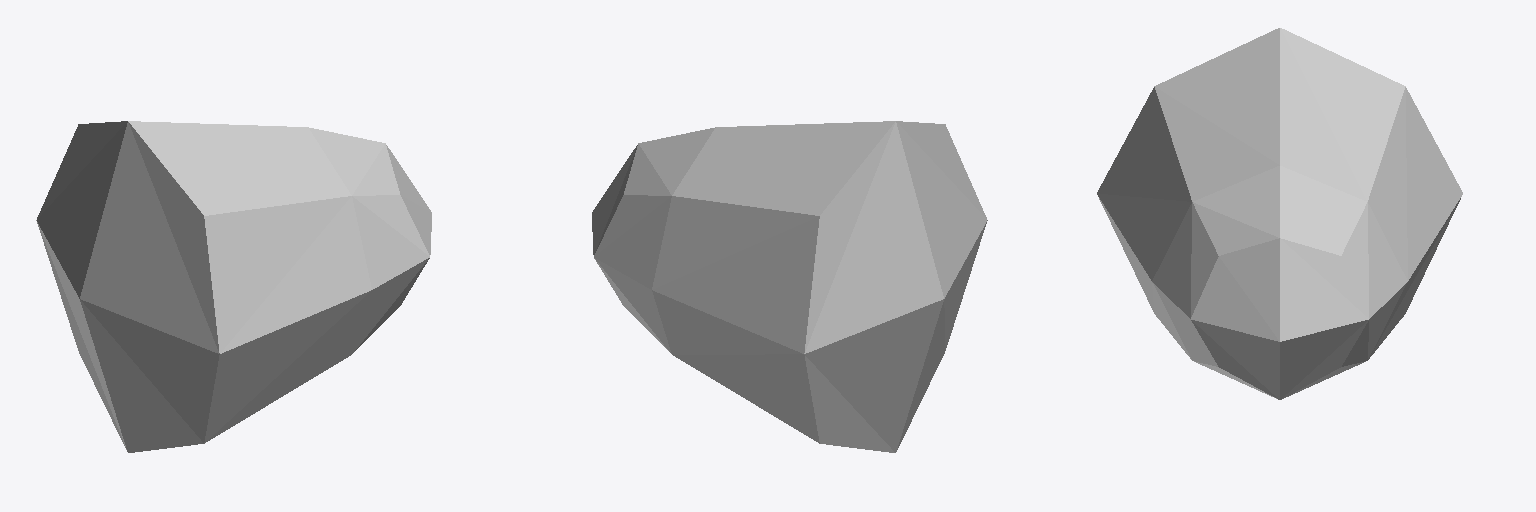
The model's file is Projectile_F_0001.obj.
The picture shows the model from 3 angles: view 1: azimuth 30°, elevation 25°; view 2: azimuth 150°, elevation 25°; view 3: azimuth 270°, elevation 25°; orthographic projection.
Parts seen in each view (by area): view 1: Bullet; view 2: Bullet; view 3: Bullet.
Part boxes in pixels (x1,y1,x2,y2): Bullet: (36,121,431,452); Bullet: (592,121,987,452); Bullet: (1097,28,1462,399).
Size of the model in its own units: 7.6 by 6.85 by 6.85.